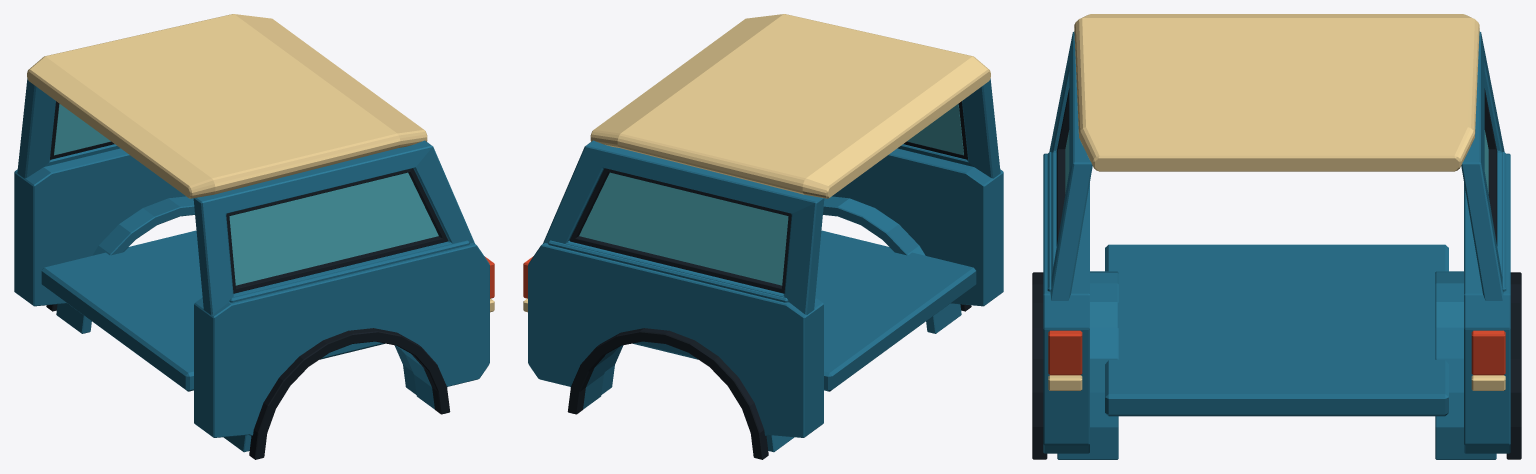
The model's file is QC_WagonBody.fbx.
3 views of the same model, side by side, from view 1: azimuth 30°, elevation 25°; view 2: azimuth 150°, elevation 25°; view 3: azimuth 270°, elevation 25° (orthographic). The views are drawn at different scales.
Visible parts, largest first — view 1: QC_WagonBody; view 2: QC_WagonBody; view 3: QC_WagonBody.
Part boxes in pixels (<box>): QC_WagonBody: <box>14,14,494,459</box>; QC_WagonBody: <box>523,14,1003,459</box>; QC_WagonBody: <box>1032,14,1521,459</box>.
Bounding box in the file's own units: 1.52 × 1.36 × 1.9.
5 materials, 5 textured.
